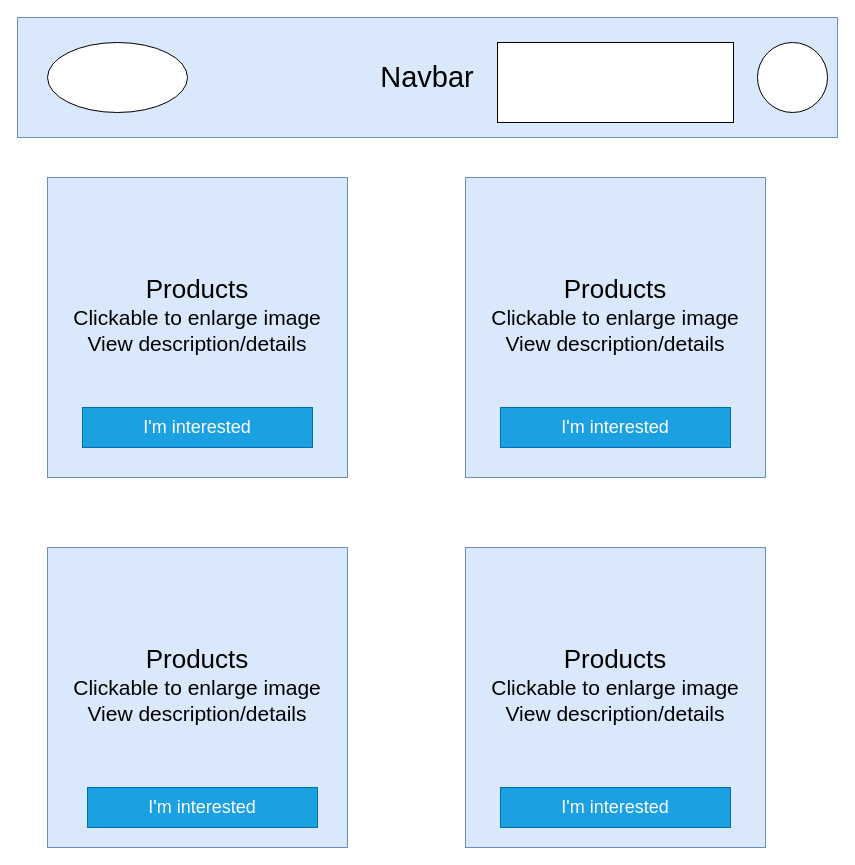
Some shapes in this 855 by 865 pixel diagram are drawn without their labels. Each missing label, with the centre of its shape:
"Home/About/FAQ/LogIn" goes at point (615, 82).
"Logo/Name" goes at point (117, 77).
"Profile" goes at point (792, 77).
